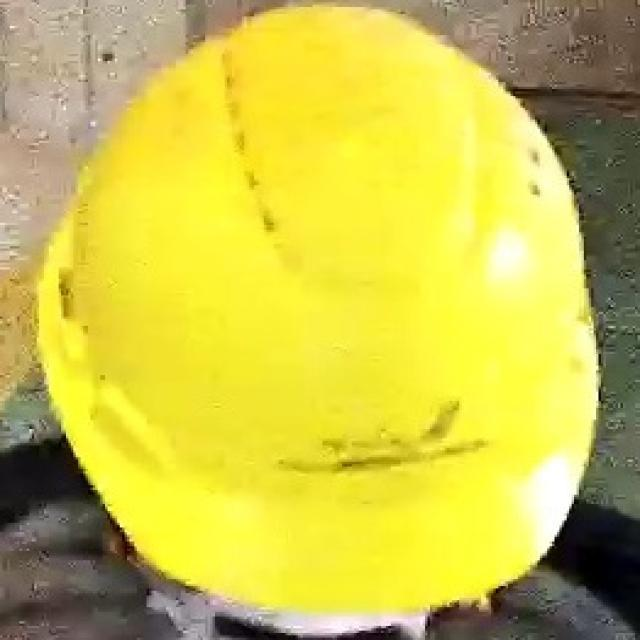yellow helmet: (30, 1, 606, 603)
